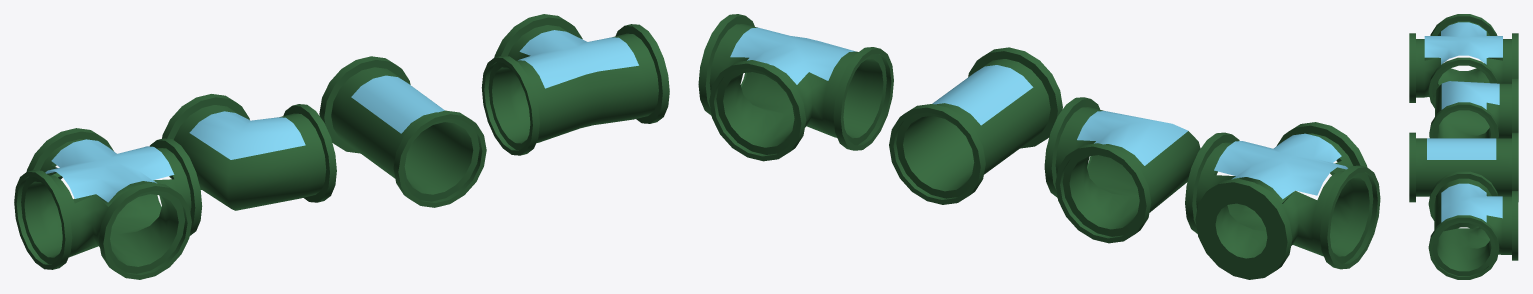
File: tuberias_rescaladas.fbx
The picture shows the model from 3 angles, left to right: view 1: azimuth 30°, elevation 25°; view 2: azimuth 150°, elevation 25°; view 3: azimuth 270°, elevation 25°; orthographic projection. The views are drawn at different scales.
Parts seen in each view (by area): view 1: x con ventana, T con ventana, RECTA001, CURVA ventana, ventana X, ventana T, ventana curva, ventana recta; view 2: x con ventana, T con ventana, RECTA001, CURVA ventana, ventana X, ventana T, ventana curva, ventana recta; view 3: T con ventana, x con ventana, RECTA001, CURVA ventana, ventana X, ventana T, ventana recta, ventana curva.
Boxes of the visible parts, <box> form: x con ventana: <box>14,128,202,279</box>; T con ventana: <box>481,14,669,155</box>; RECTA001: <box>319,56,486,207</box>; CURVA ventana: <box>162,94,336,210</box>; ventana X: <box>45,139,174,202</box>; ventana T: <box>518,30,638,88</box>; ventana curva: <box>189,111,305,159</box>; ventana recta: <box>351,75,444,133</box>; x con ventana: <box>1185,122,1380,279</box>; T con ventana: <box>698,14,893,161</box>; RECTA001: <box>889,47,1062,204</box>; CURVA ventana: <box>1044,97,1200,243</box>; ventana X: <box>1214,133,1347,199</box>; ventana T: <box>730,27,855,84</box>; ventana curva: <box>1077,111,1188,165</box>; ventana recta: <box>932,65,1033,125</box>; T con ventana: <box>1428,171,1518,279</box>; x con ventana: <box>1409,14,1518,108</box>; RECTA001: <box>1409,132,1518,202</box>; CURVA ventana: <box>1429,78,1518,138</box>; ventana X: <box>1424,22,1502,64</box>; ventana T: <box>1441,183,1502,222</box>; ventana recta: <box>1427,138,1496,159</box>; ventana curva: <box>1441,81,1499,109</box>.
Bounding box in the file's own units: 4.42 × 0.6398 × 1.
